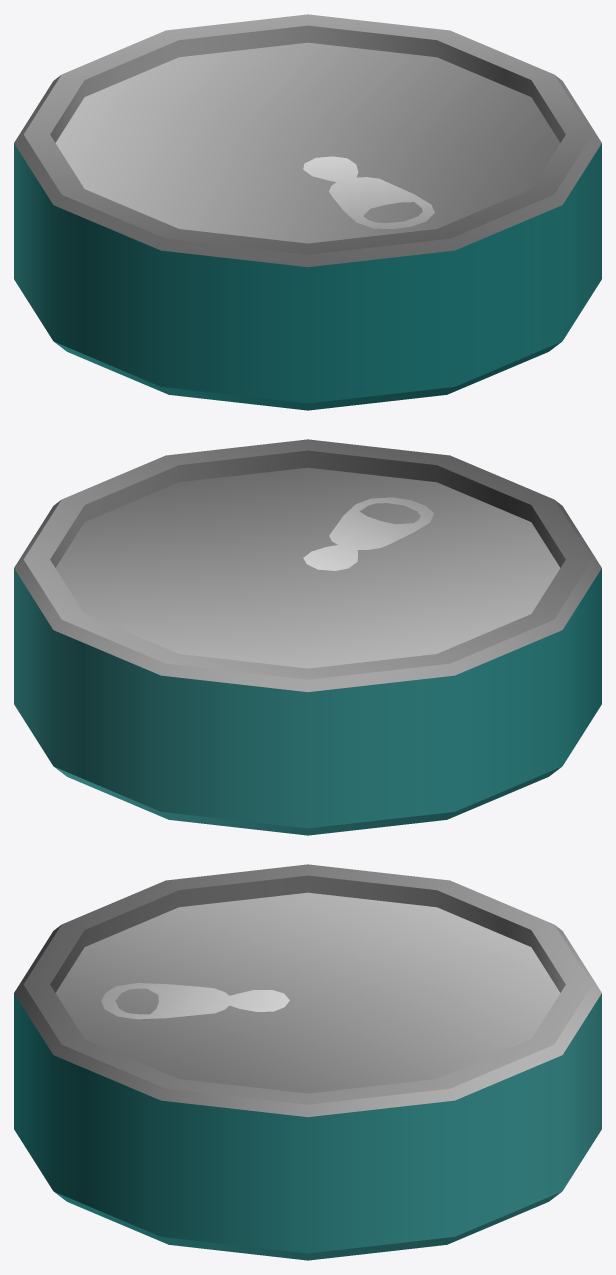
Rendered from Fish Can_1.fbx.
3 views of the same model, one above another, from view 1: azimuth 30°, elevation 25°; view 2: azimuth 150°, elevation 25°; view 3: azimuth 270°, elevation 25° (orthographic).
Parts seen in each view (by area): view 1: Fish Can_1, Fish Can_1 Top; view 2: Fish Can_1, Fish Can_1 Top; view 3: Fish Can_1, Fish Can_1 Top.
Boxes of the visible parts, box(x1,y1,x2,y2) form: Fish Can_1: box(14, 14, 601, 410); Fish Can_1 Top: box(55, 42, 560, 243); Fish Can_1: box(14, 439, 601, 835); Fish Can_1 Top: box(55, 467, 560, 668); Fish Can_1: box(14, 864, 601, 1260); Fish Can_1 Top: box(55, 892, 560, 1093).
Bounding box in the file's own units: 0.1131 × 0.0336 × 0.1131.
1 material, 1 textured.
